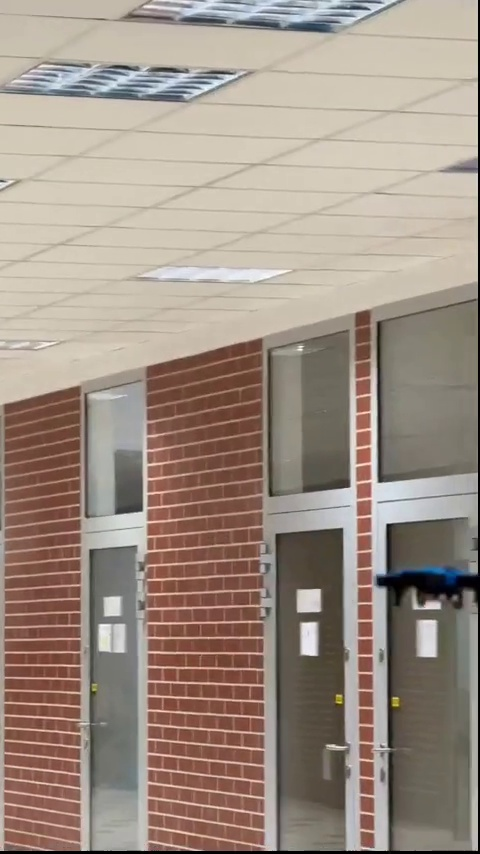drone: (372, 562, 480, 614)
